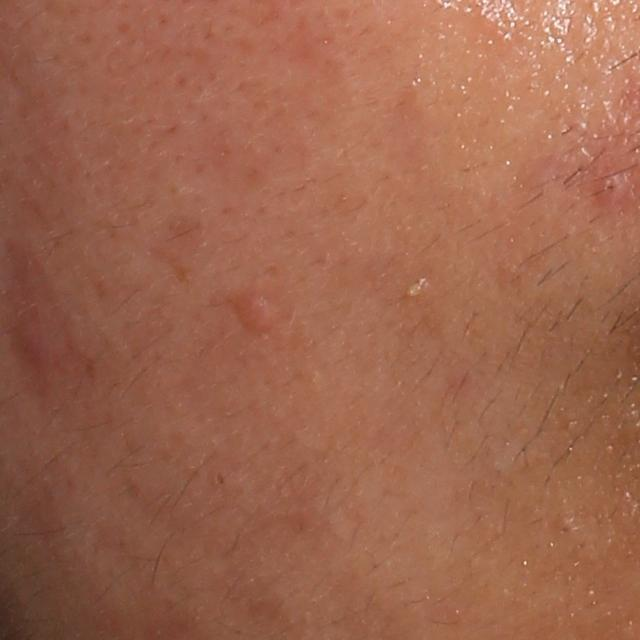comedo: (212, 470, 226, 490)
papule: (19, 321, 61, 373), (233, 289, 279, 334), (596, 166, 629, 205)
